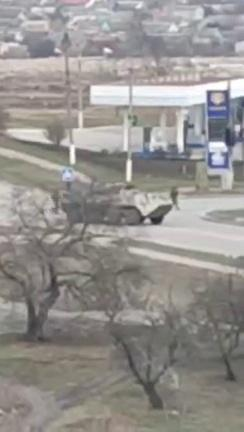person: (170, 183, 183, 212)
tank: (59, 182, 175, 226)
